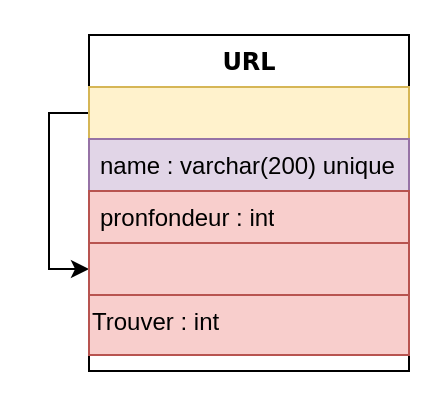
This 444x406 diagram has some shape labels left out. Here are the shapes that lost their labels. From the top down, the centre of each, then its label:
At (248,112): "ID : int".
At (248,268): "parent : int".
